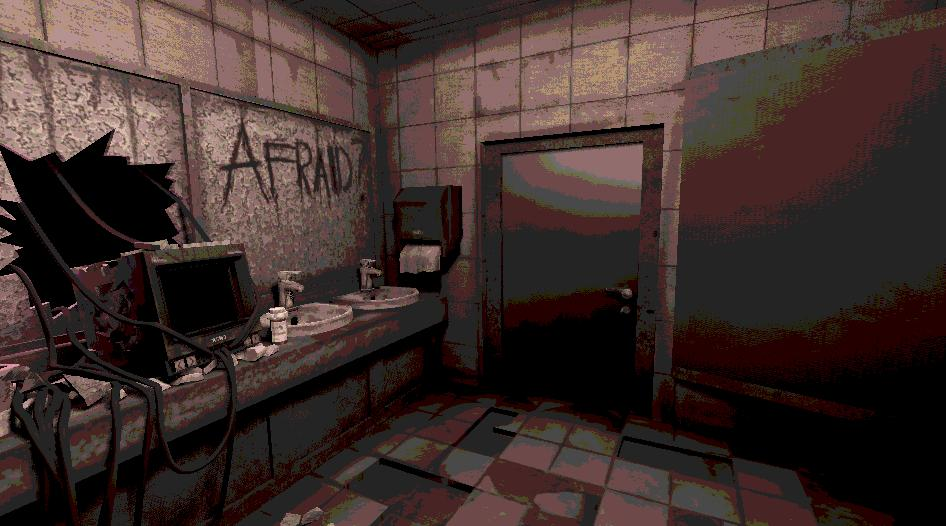door: (480, 127, 668, 425)
